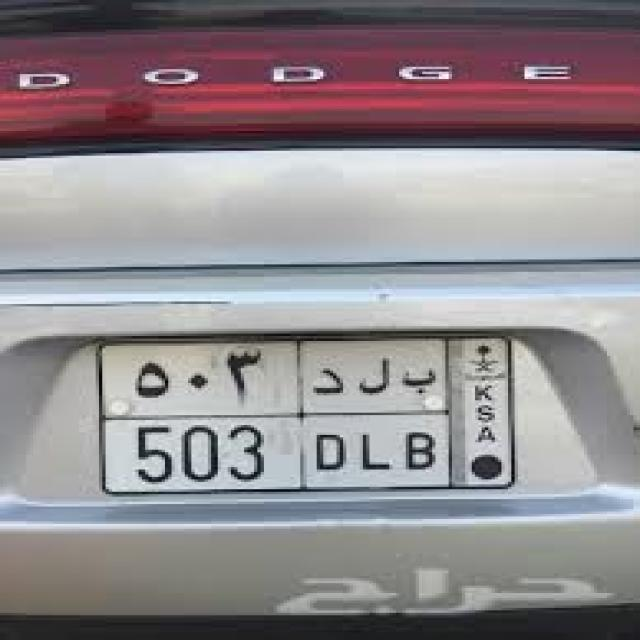license_plate: (92, 328, 518, 496)
